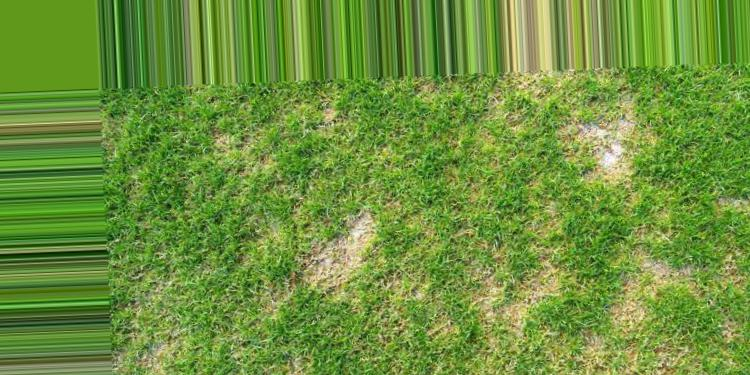patch: (306, 222, 355, 291), (580, 121, 618, 172), (135, 333, 194, 364), (626, 252, 678, 283), (603, 284, 643, 322), (359, 197, 387, 244), (478, 297, 529, 321), (519, 256, 554, 283), (474, 265, 507, 293), (210, 128, 239, 153), (154, 270, 186, 289), (310, 103, 338, 118)
